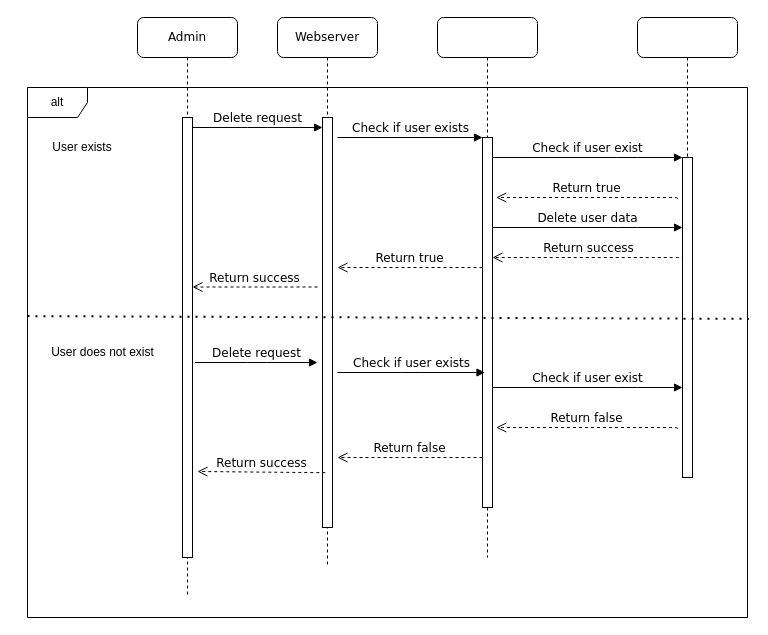
Image size: 768x635. Some labels were removed from this diagram. Each missing label, with the box of its shape:
User data handler: (436, 16, 538, 558)
User database: (636, 16, 738, 278)
